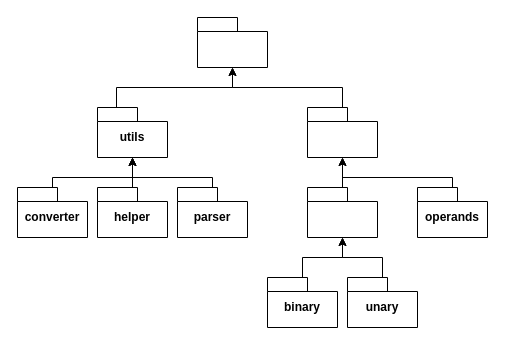
Some shapes in this 505 by 345 pixel diagram are drawn without their labels. Each missing label, with the centre of its shape:
"abstract-syntax-tree" goes at point (342, 132).
"operations" goes at point (342, 212).
"symcpp" goes at point (232, 42).
